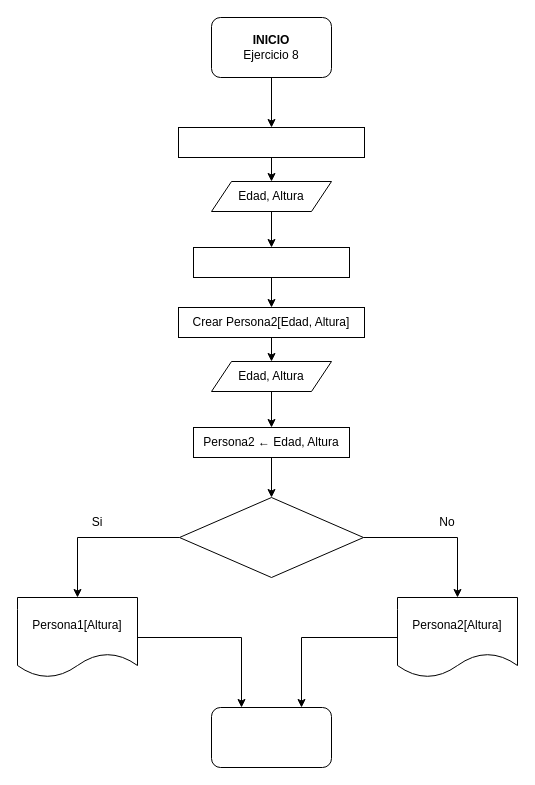
Some shapes in this 535 by 785 pixel diagram are drawn without their labels. The centre of each missing label's shape, as x and y in pixels:
Crear Persona1[Edad, Altura]: pixel 271 142
FIN: pixel 271 737
Persona1 ← Edad, Altura: pixel 271 262
Persona1[Edad] > Persona2[Edad]: pixel 271 537
